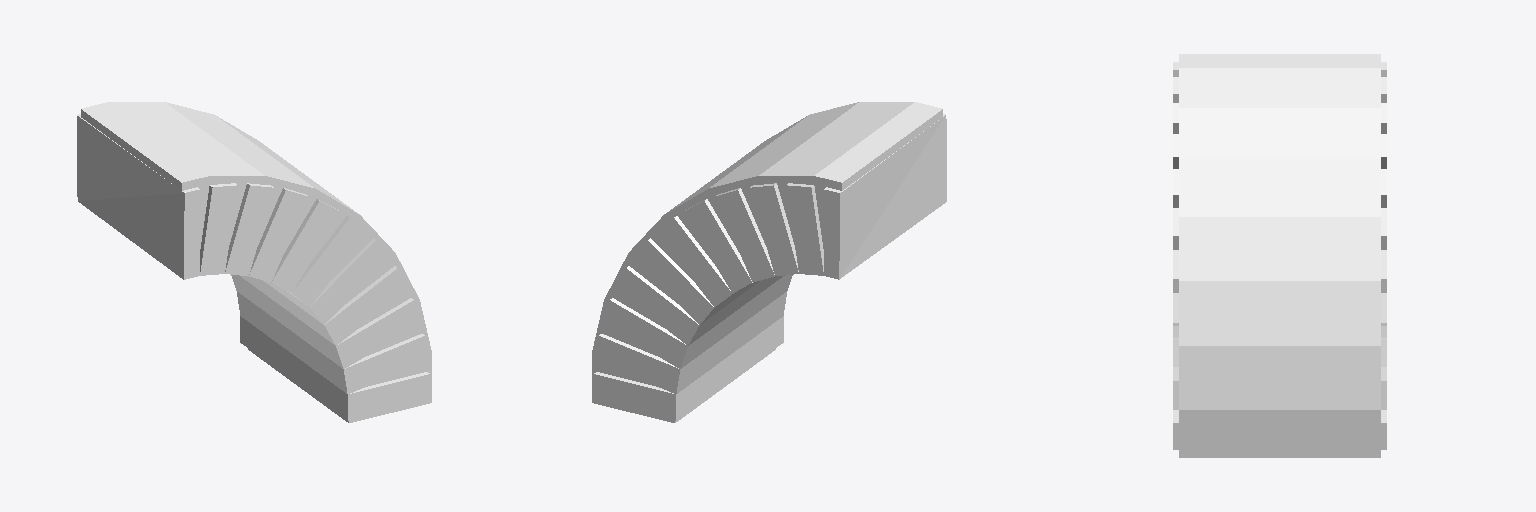
File: lime_mortar_orange_clay_brick_round_arch_2.obj
3 renders of one model, left to right at view 1: azimuth 30°, elevation 25°; view 2: azimuth 150°, elevation 25°; view 3: azimuth 270°, elevation 25°, orthographic.
Visible parts, largest first — view 1: bricks, mortar; view 2: bricks, mortar; view 3: mortar, bricks.
Boxes of the visible parts, x1,y1,x2,y2 form: bricks: [77, 114, 429, 420]; mortar: [81, 102, 431, 422]; bricks: [594, 114, 946, 420]; mortar: [592, 102, 942, 422]; mortar: [1179, 54, 1380, 457]; bricks: [1173, 62, 1386, 449].
Bounding box in the file's own units: 1.52 × 1.62 × 1.12.